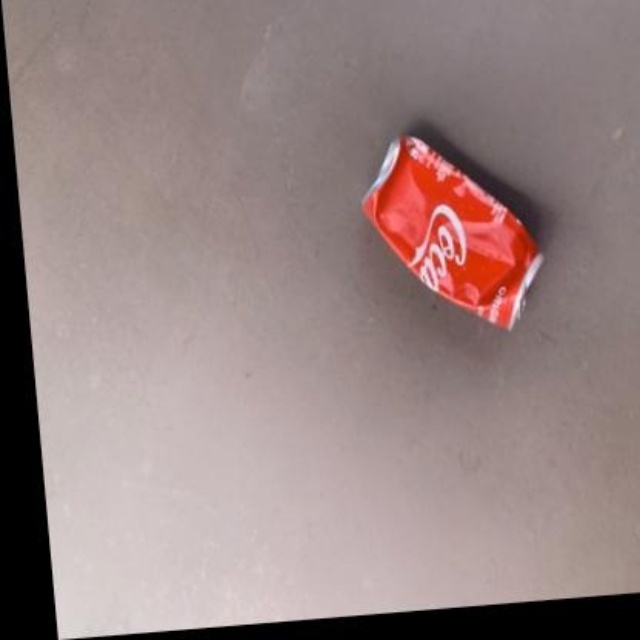trash: (363, 135, 542, 328)
